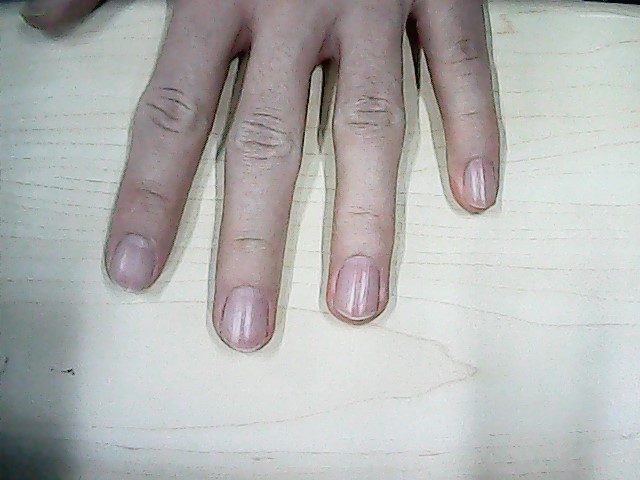nail: (221, 285, 271, 351), (106, 231, 157, 295), (337, 252, 381, 322), (459, 150, 498, 210)
